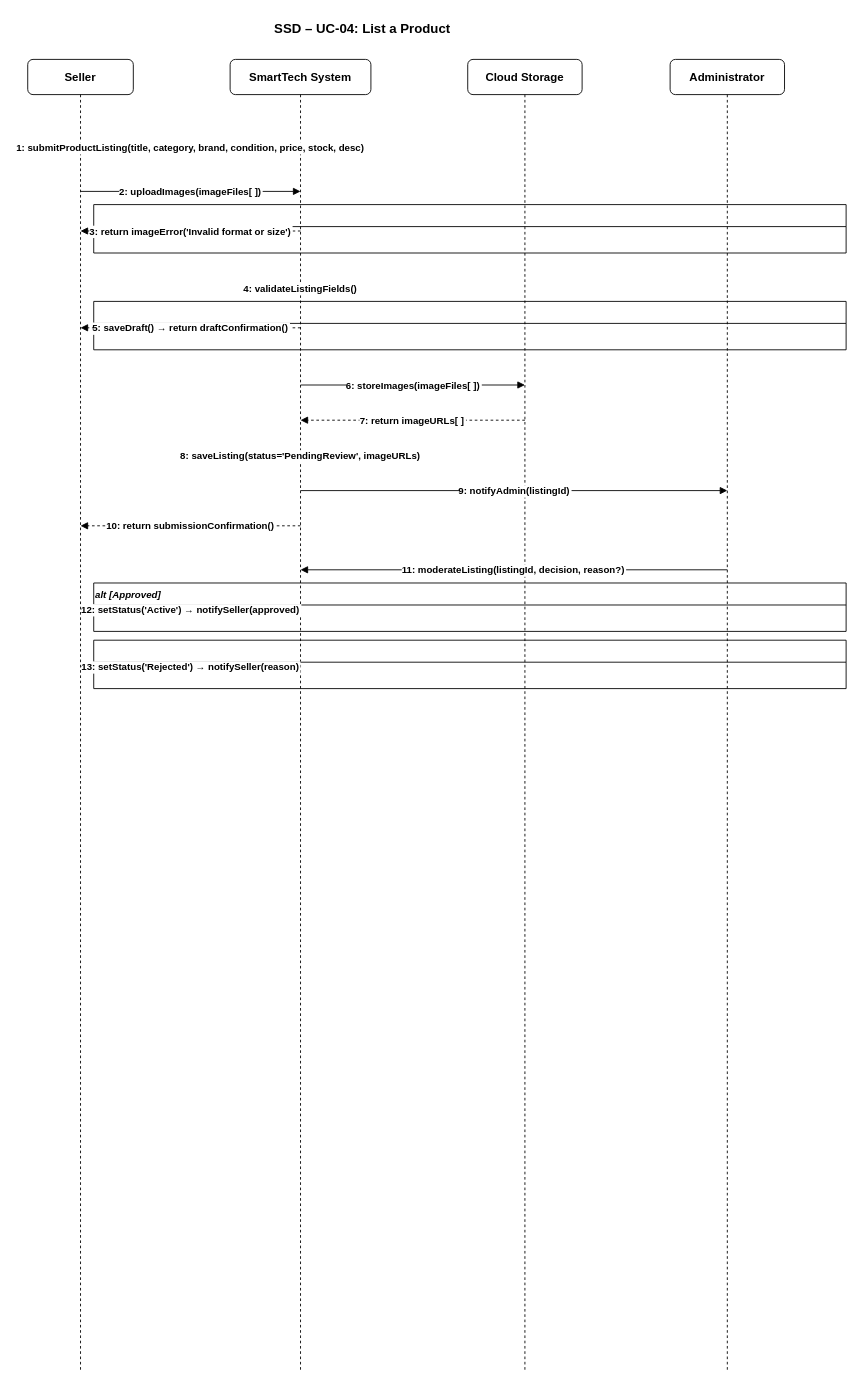
The diagram is 862 pixels wide and 1387 high, and some of its shapes have lost their labels. The centre of each missing label's shape, as x and y in pixels:
"alt [invalid format / size]" belongs at point 469,228.
"alt [Rejected]" belongs at point 469,664.
"opt [Save as Draft]" belongs at point 469,325.
